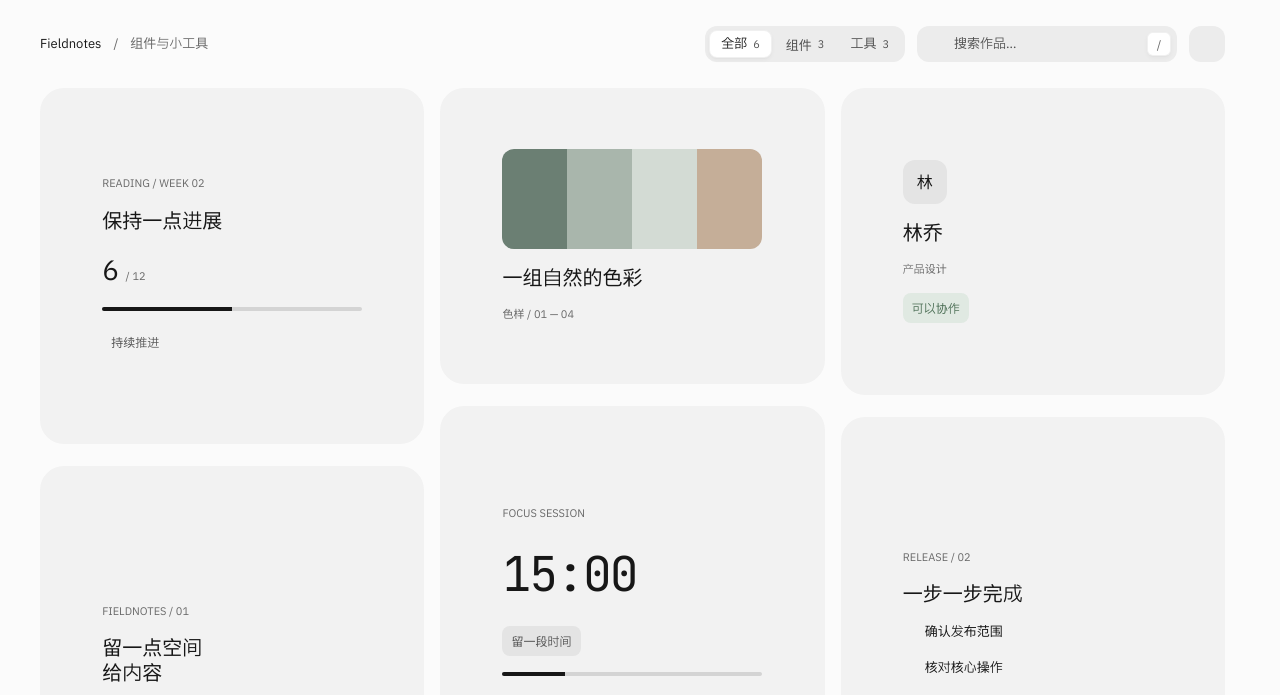
Scenario: combines category and search with synchronized counts
The image size is (1280, 695).
Click the radio button labelled "工具 3": x=870, y=44 [838, 30, 901, 58]
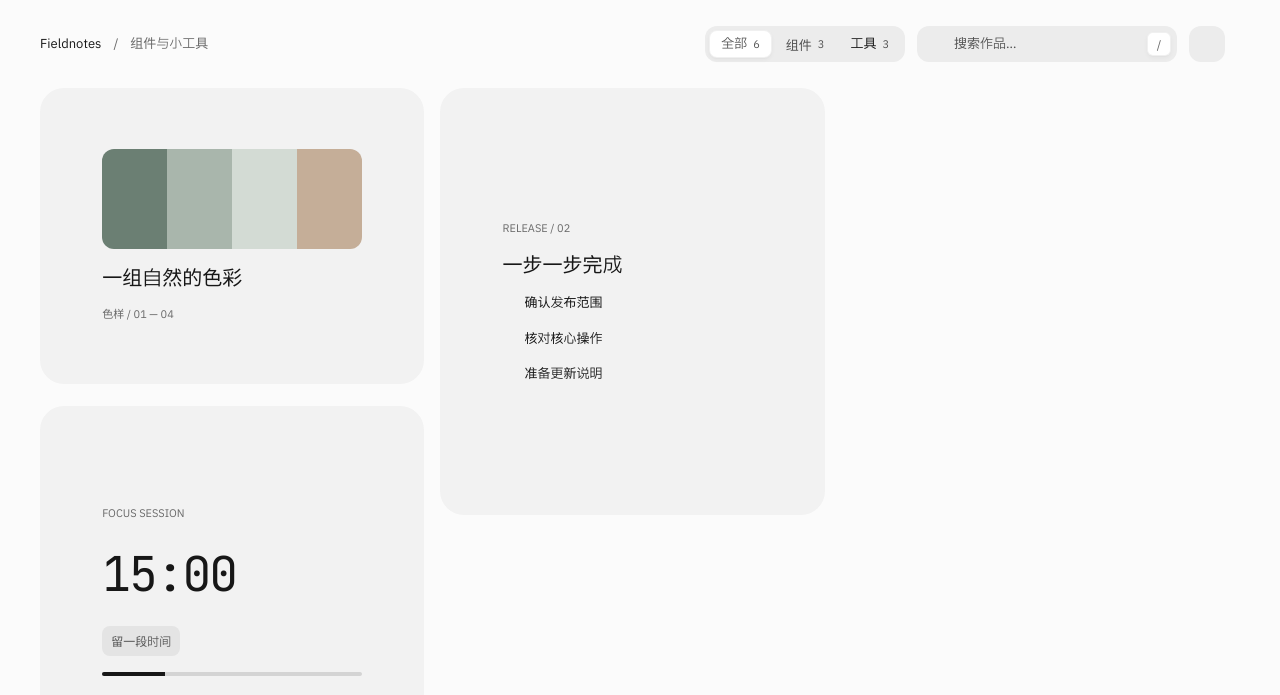
In the search field: x=1046, y=44 [952, 33, 1139, 55], type "计时"
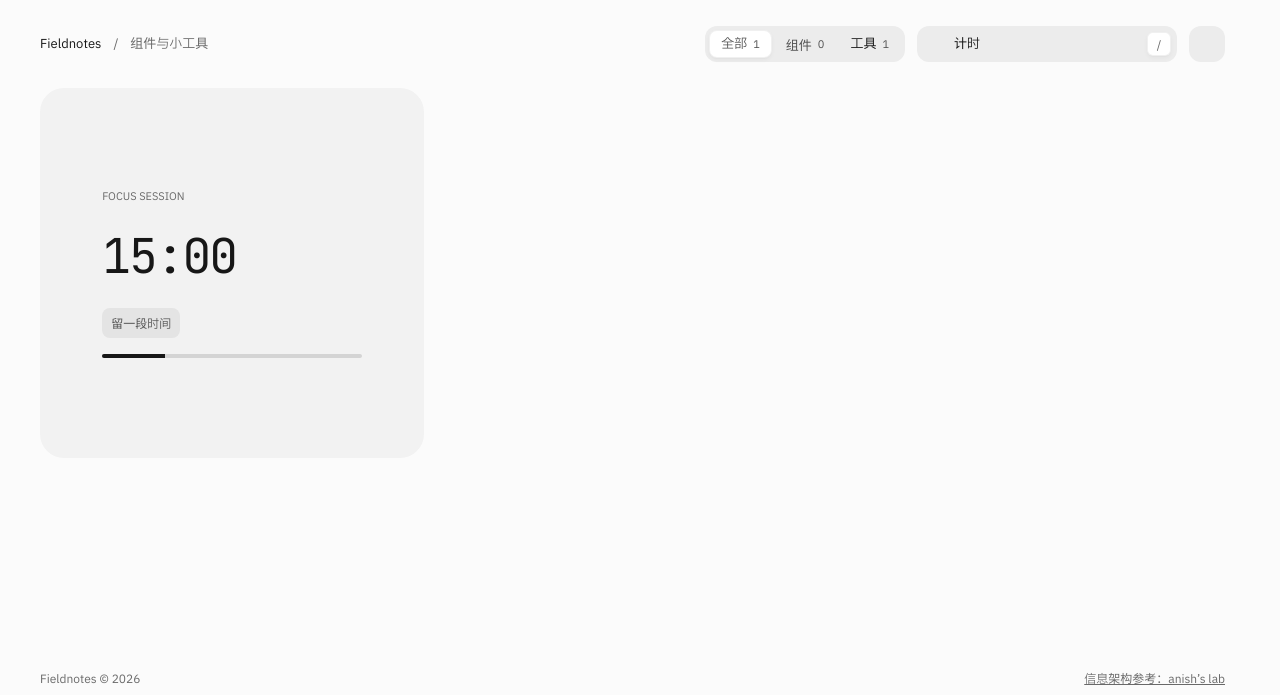
Now the radio button labelled "全部 1" is shown, box [709, 30, 772, 58]
Replace the text in the search field with "不存在的作品": x=1046, y=44 [952, 33, 1139, 55]
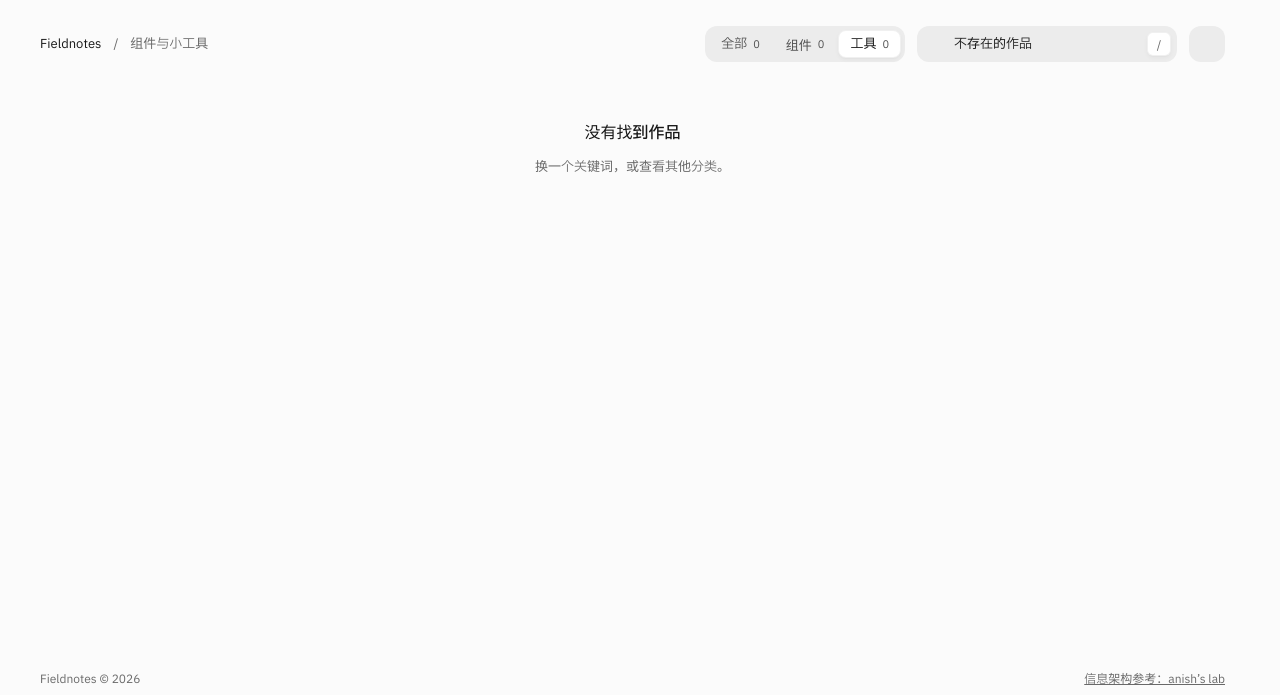
Now the heading "没有找到作品" is shown, box [584, 120, 680, 144]
